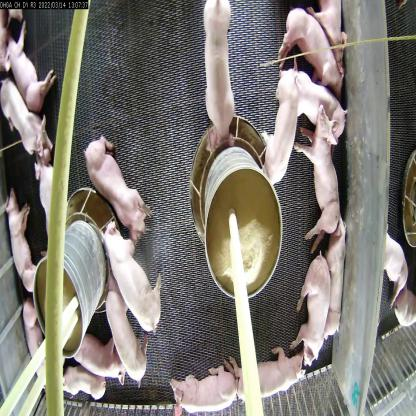Pig: (82, 130, 155, 243), (102, 220, 168, 337), (200, 0, 246, 156), (298, 99, 344, 250), (280, 3, 346, 100), (99, 276, 152, 390), (221, 349, 305, 409), (7, 19, 57, 116), (262, 60, 299, 191), (6, 178, 43, 300), (0, 76, 53, 160), (290, 252, 327, 369), (321, 225, 356, 346), (165, 362, 241, 415), (294, 71, 346, 141), (26, 145, 63, 240), (380, 226, 412, 318), (24, 301, 57, 388), (74, 333, 126, 385), (311, 3, 352, 68), (58, 369, 104, 392)
